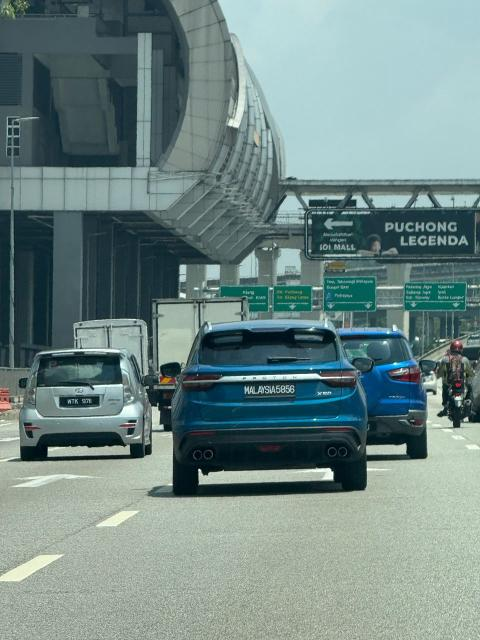License_Plate: (243, 383, 297, 399), (67, 397, 96, 410)
car: (170, 319, 372, 496), (20, 348, 155, 462)
